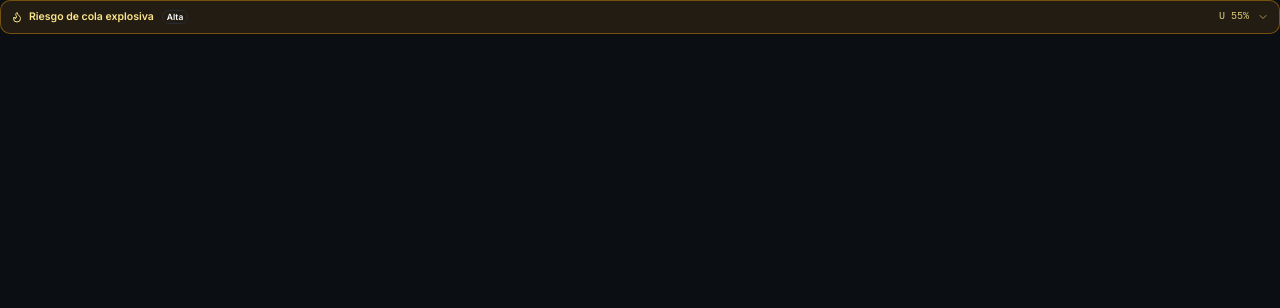
Test case: FIX-3 — escalation notice renders in Spanish when reason code present
Expand the collapsible card.
Click the button with test id "tail-risk-panel-toggle". click: (91, 16)
box: [11, 9, 1269, 25]
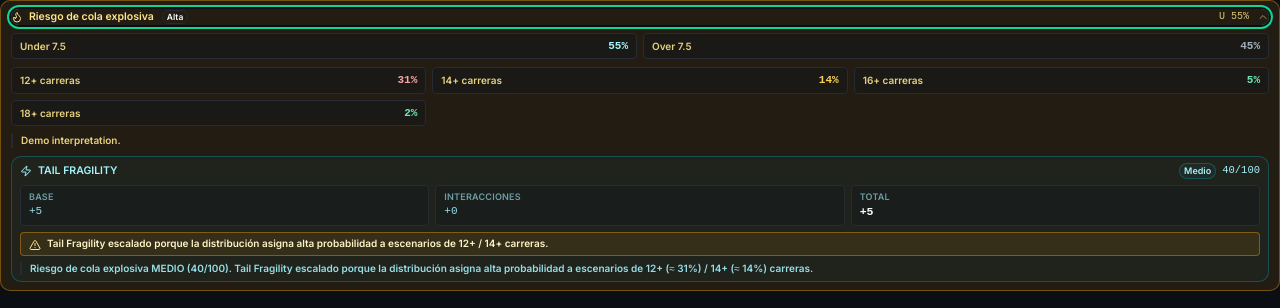
Result: the element with test id "tail-risk-panel-fragility-engine-escalation-notice" is shown at [20, 232, 1260, 256]
Result: the element with test id "tail-risk-panel-fragility-engine-escalation-notice" shows "Tail Fragility escalado" at [47, 236, 548, 248]
